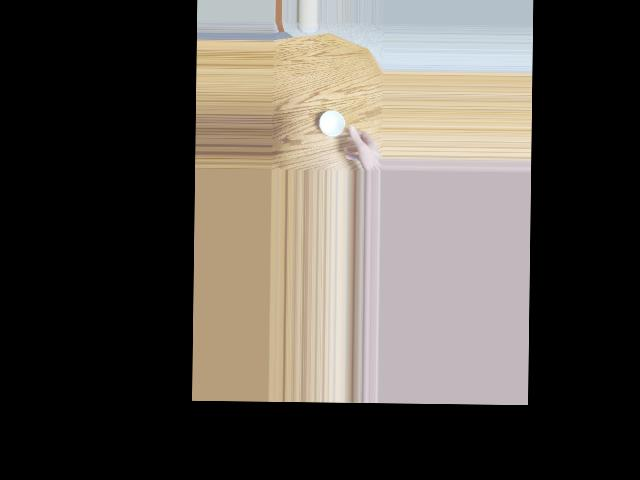cotage: (314, 104, 347, 143)
